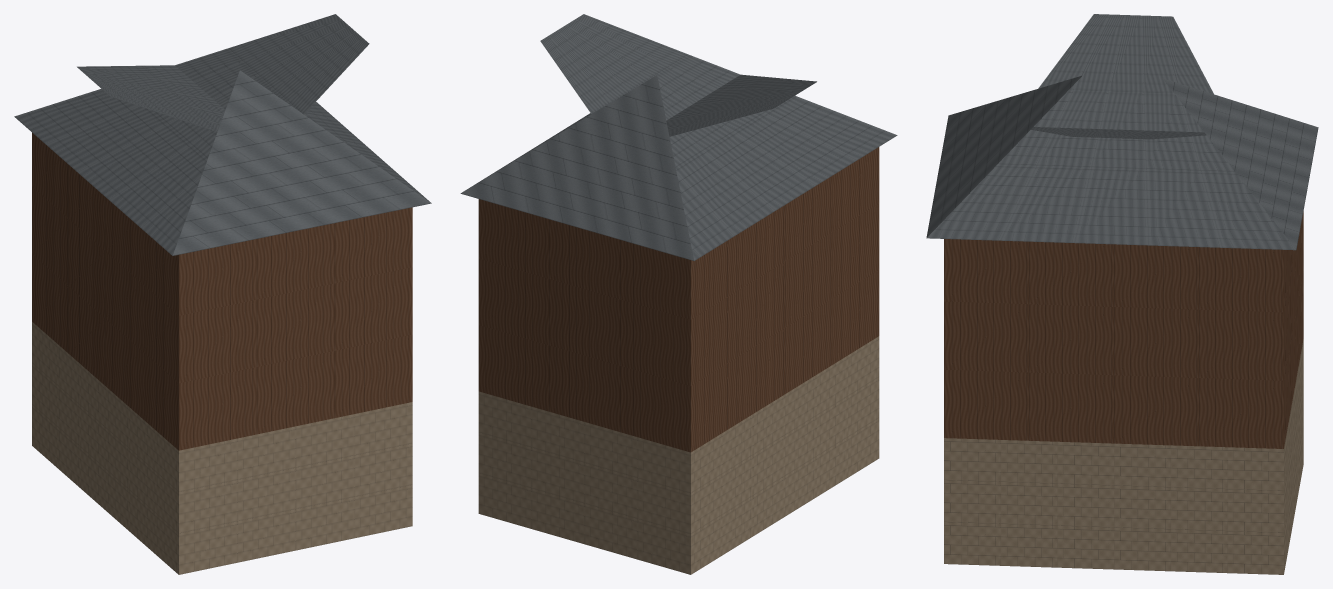
File: bld_c40_39_258.gltf
3 renders of one model, left to right at view 1: azimuth 30°, elevation 25°; view 2: azimuth 150°, elevation 25°; view 3: azimuth 270°, elevation 25°, orthographic. The views are drawn at different scales.
Parts seen in each view (by area): view 1: bld_c40_39_258; view 2: bld_c40_39_258; view 3: bld_c40_39_258.
Boxes of the visible parts, left/top/right/bottom form: bld_c40_39_258: left=14, top=14, right=431, bottom=574; bld_c40_39_258: left=460, top=14, right=897, bottom=574; bld_c40_39_258: left=926, top=14, right=1318, bottom=574.
Bounding box in the file's own units: 11.7 × 17.7 × 14.39.
3 materials, 3 textured.
